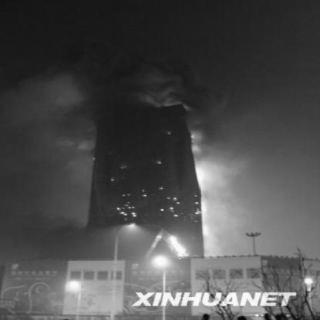other: (146, 248, 173, 271)
